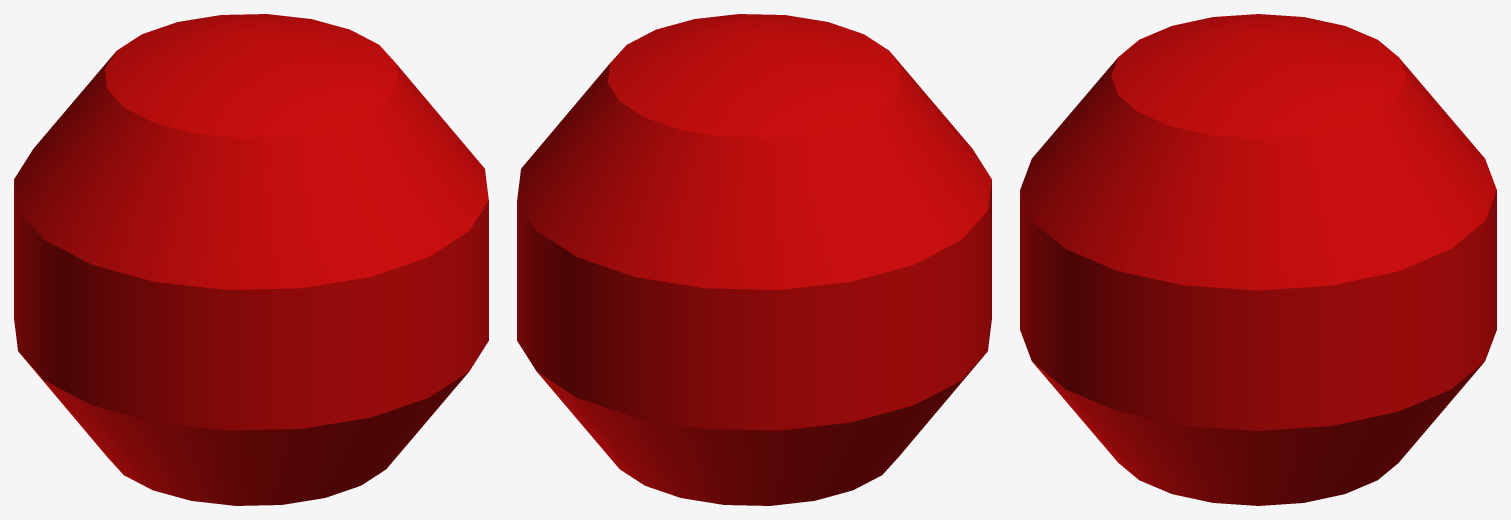
The model's file is Barrier1.fbx.
The picture shows the model from 3 angles, left to right: view 1: azimuth 30°, elevation 25°; view 2: azimuth 150°, elevation 25°; view 3: azimuth 270°, elevation 25°; orthographic projection.
Visible parts, largest first — view 1: pSphere1; view 2: pSphere1; view 3: pSphere1.
Boxes of the visible parts, x1,y1,x2,y2 form: pSphere1: (14,14,488,505); pSphere1: (517,14,991,505); pSphere1: (1020,14,1496,505).
Size of the model in its own units: 3.02 by 3.17 by 3.02.
